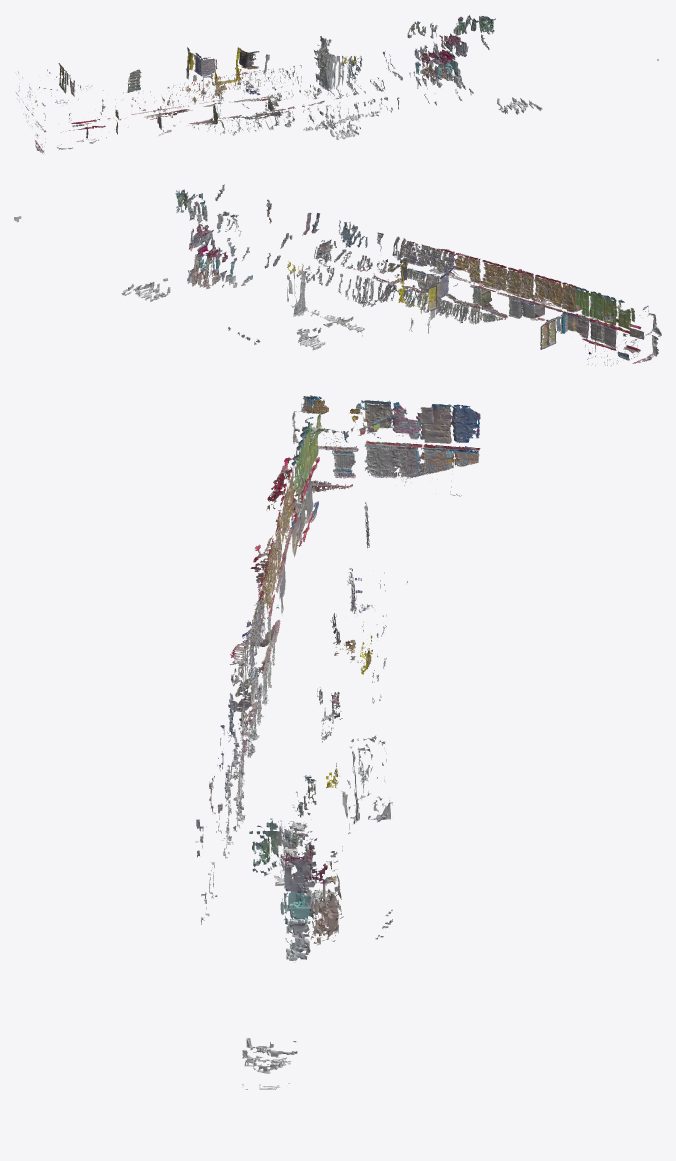
Rendered from surfaces-0.glb.
3 renders of one model, top to bottom at view 1: azimuth 30°, elevation 25°; view 2: azimuth 150°, elevation 25°; view 3: azimuth 270°, elevation 25°, orthographic. The views are drawn at different scales.
Parts seen in each view (by area): view 1: obj-0-1336, obj-0-958, obj-0-90, obj-0-1149, obj-0-899, obj-0-327, obj-0-313, obj-0-906, obj-0-897, obj-0-236, obj-0-911, obj-0-1048; view 2: obj-0-859, obj-0-90, obj-0-295, obj-0-1336, obj-0-313, obj-0-327, obj-0-1124, obj-0-958, obj-0-901, obj-0-800, obj-0-921, obj-0-1337 (+10 smaller); view 3: obj-0-68, obj-0-958, obj-0-859.
Part boxes in pixels (x1=…): obj-0-1336: x1=314, y1=50, x2=351, y2=91; obj-0-958: x1=414, y1=39, x2=468, y2=63; obj-0-90: x1=131, y1=94, x2=275, y2=119; obj-0-1149: x1=459, y1=16, x2=495, y2=34; obj-0-899: x1=415, y1=59, x2=460, y2=79; obj-0-327: x1=189, y1=100, x2=324, y2=124; obj-0-313: x1=497, y1=97, x2=542, y2=114; obj-0-906: x1=420, y1=52, x2=451, y2=81; obj-0-897: x1=416, y1=71, x2=465, y2=89; obj-0-236: x1=195, y1=55, x2=214, y2=76; obj-0-911: x1=303, y1=111, x2=378, y2=130; obj-0-1048: x1=407, y1=21, x2=438, y2=38; obj-0-859: x1=513, y1=269, x2=617, y2=323; obj-0-90: x1=429, y1=267, x2=588, y2=320; obj-0-295: x1=485, y1=264, x2=522, y2=293; obj-0-1336: x1=287, y1=265, x2=311, y2=316; obj-0-313: x1=121, y1=282, x2=170, y2=301; obj-0-327: x1=372, y1=273, x2=507, y2=317; obj-0-1124: x1=338, y1=273, x2=377, y2=306; obj-0-958: x1=188, y1=229, x2=234, y2=256; obj-0-901: x1=377, y1=232, x2=455, y2=266; obj-0-800: x1=540, y1=319, x2=556, y2=349; obj-0-921: x1=365, y1=279, x2=399, y2=305; obj-0-1337: x1=215, y1=184, x2=351, y2=245; obj-0-68: x1=364, y1=403, x2=479, y2=475; obj-0-958: x1=279, y1=831, x2=317, y2=899; obj-0-859: x1=275, y1=431, x2=310, y2=568.
Bounding box in the file's own units: 64.19 × 11.62 × 13.1.
